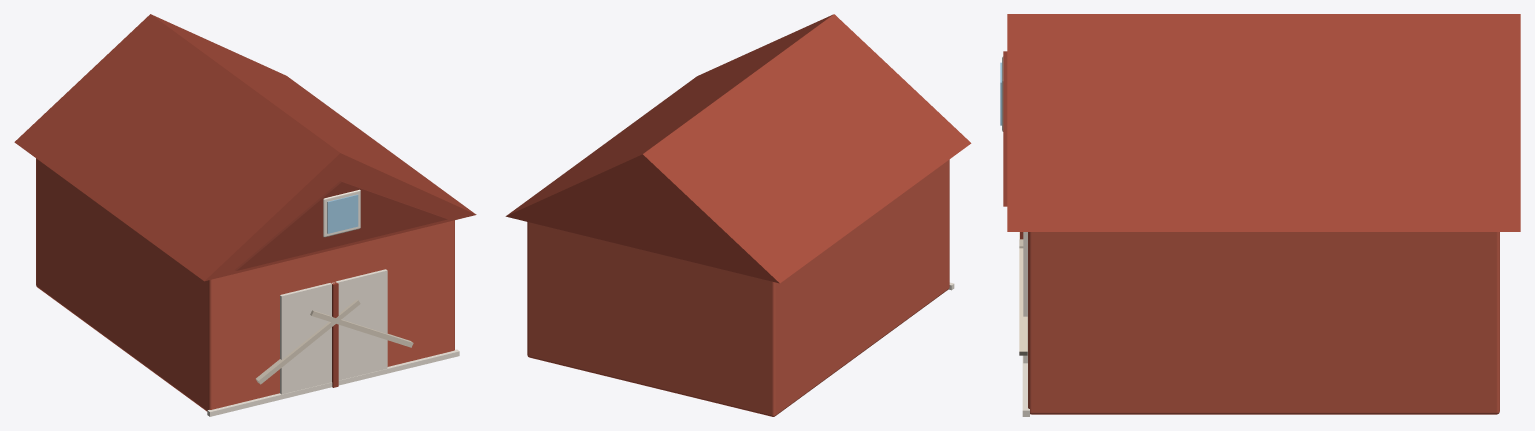
The model's file is granero.glb.
3 renders of one model, left to right at view 1: azimuth 30°, elevation 25°; view 2: azimuth 150°, elevation 25°; view 3: azimuth 270°, elevation 25°, orthographic. The views are drawn at different scales.
Size of the model in its own units: 7.2 by 6 by 8.82.
